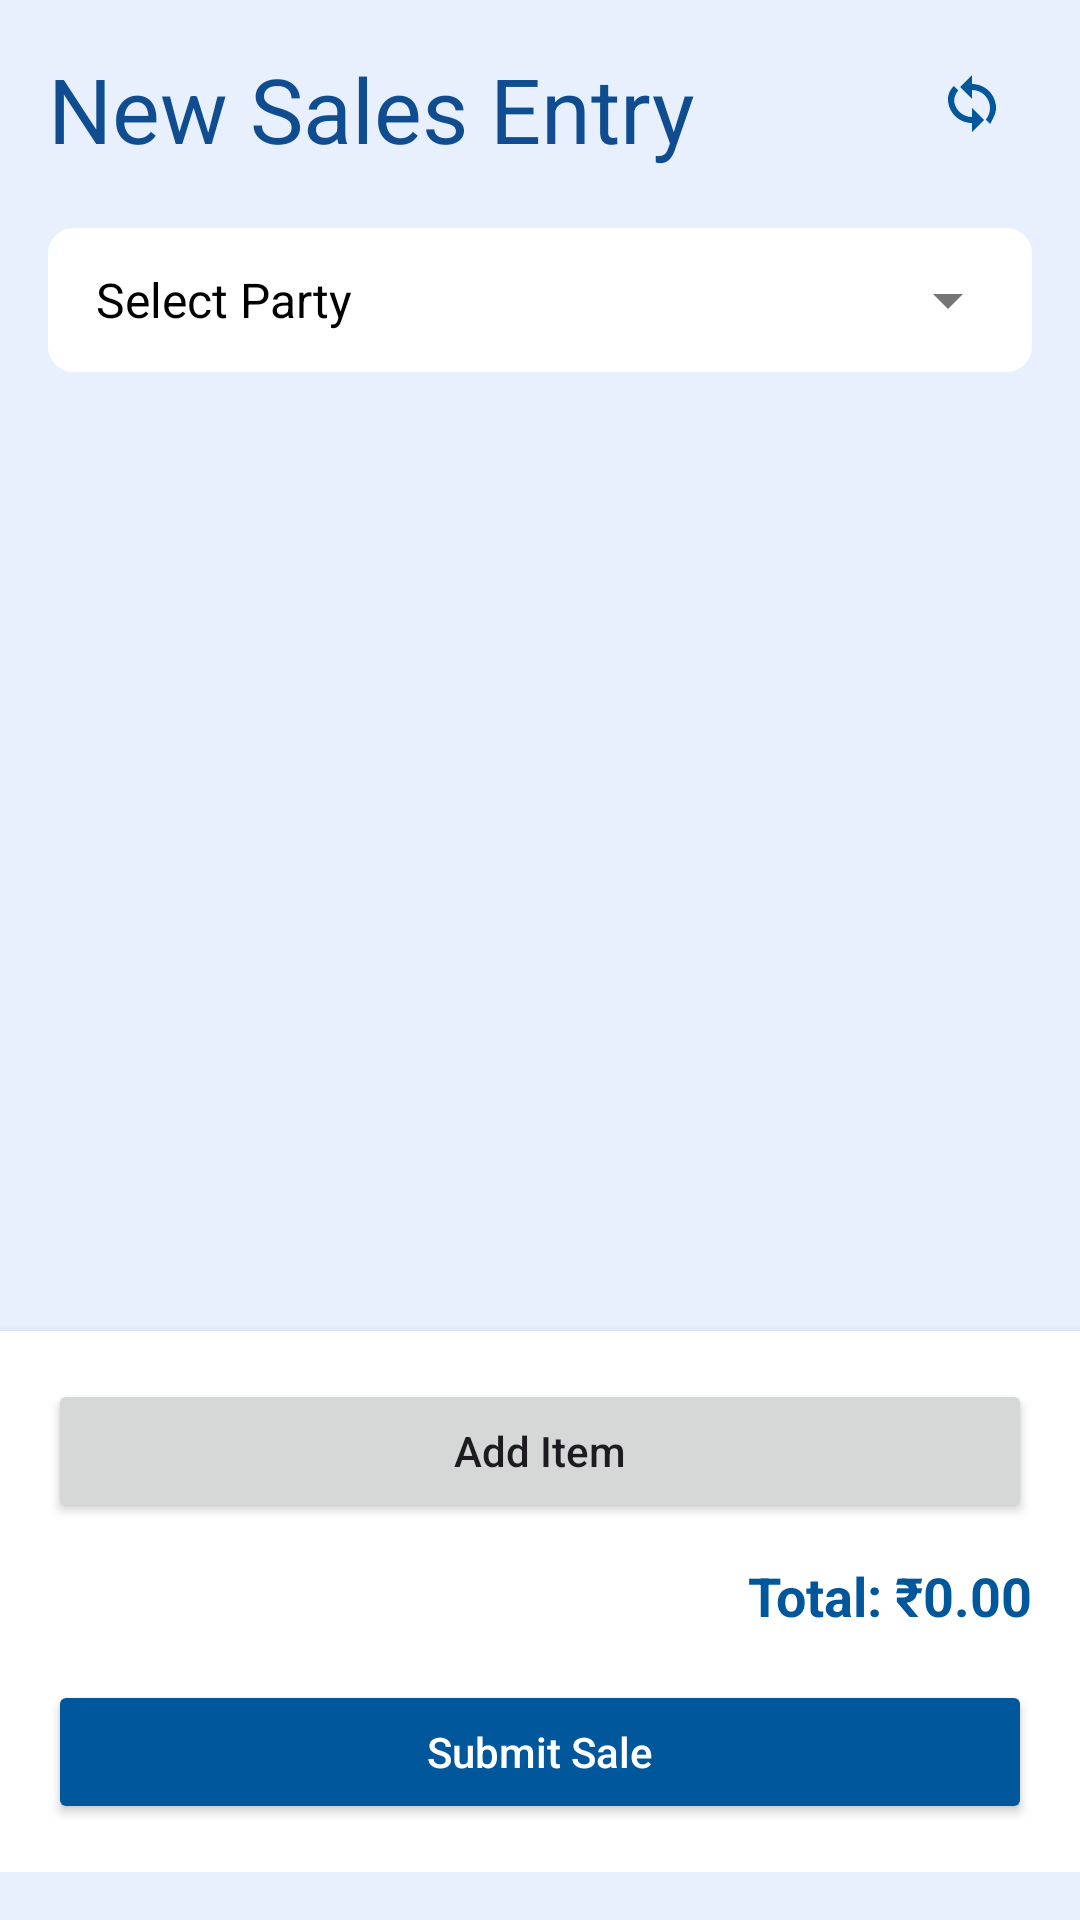

Point at icon controls on the screen. Image size 1080 x 1920, points as point (x, y).
Refresh: point (972, 103)
